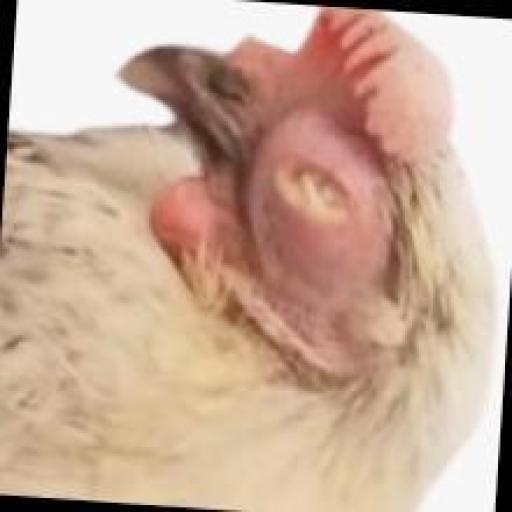disease: (248, 104, 398, 299)
